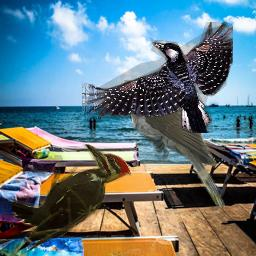Cuckoo: (121, 93, 225, 211)
Woodpecker: (82, 22, 233, 133), (12, 144, 132, 255)
